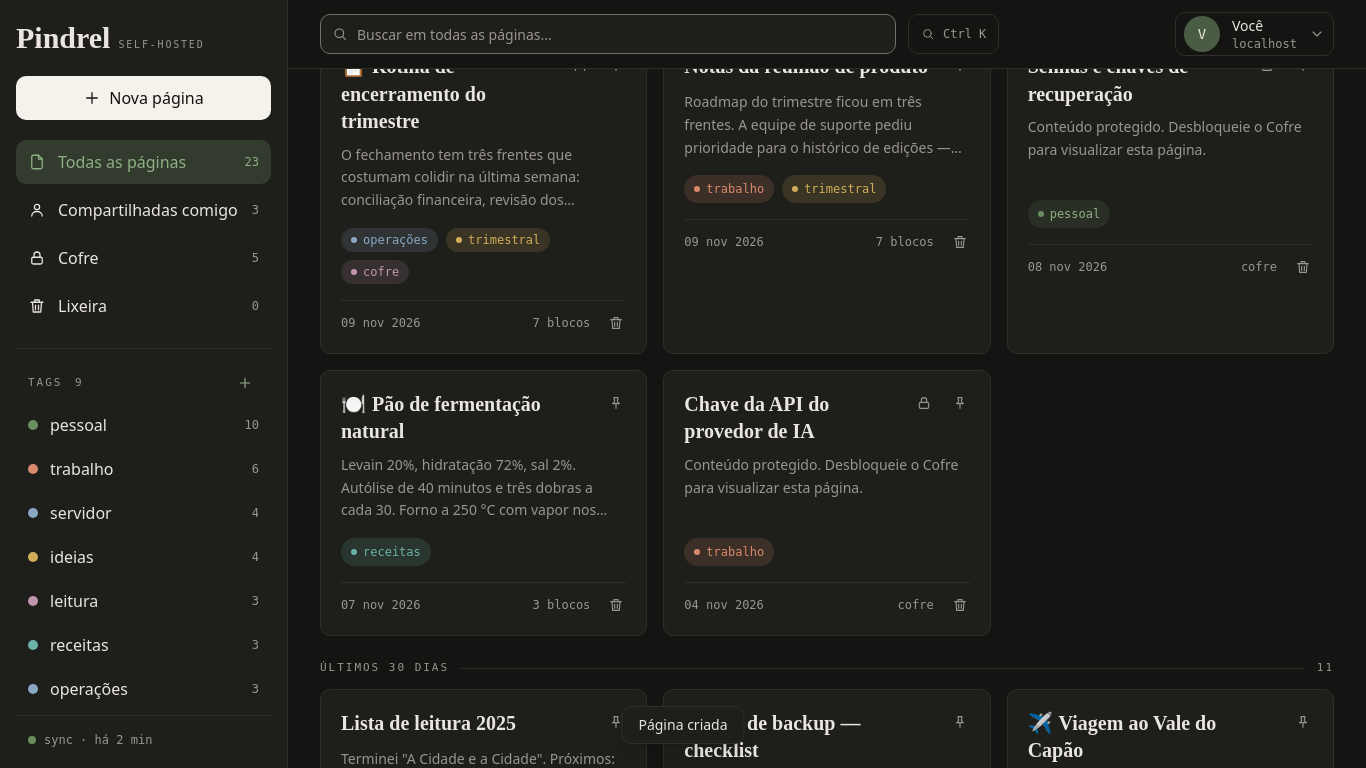
Test: App — painel e editor › online (sem o modo offline) o menu e o campo de pessoas continuam
(page scrolled)
Expected: the button "Compartilhadas comigo 3" is shown, x1=16 y1=188 x2=271 y2=232
Click the button "Pão de fermentação natural".
click(464, 418)  # box x1=341 y1=391 x2=586 y2=446
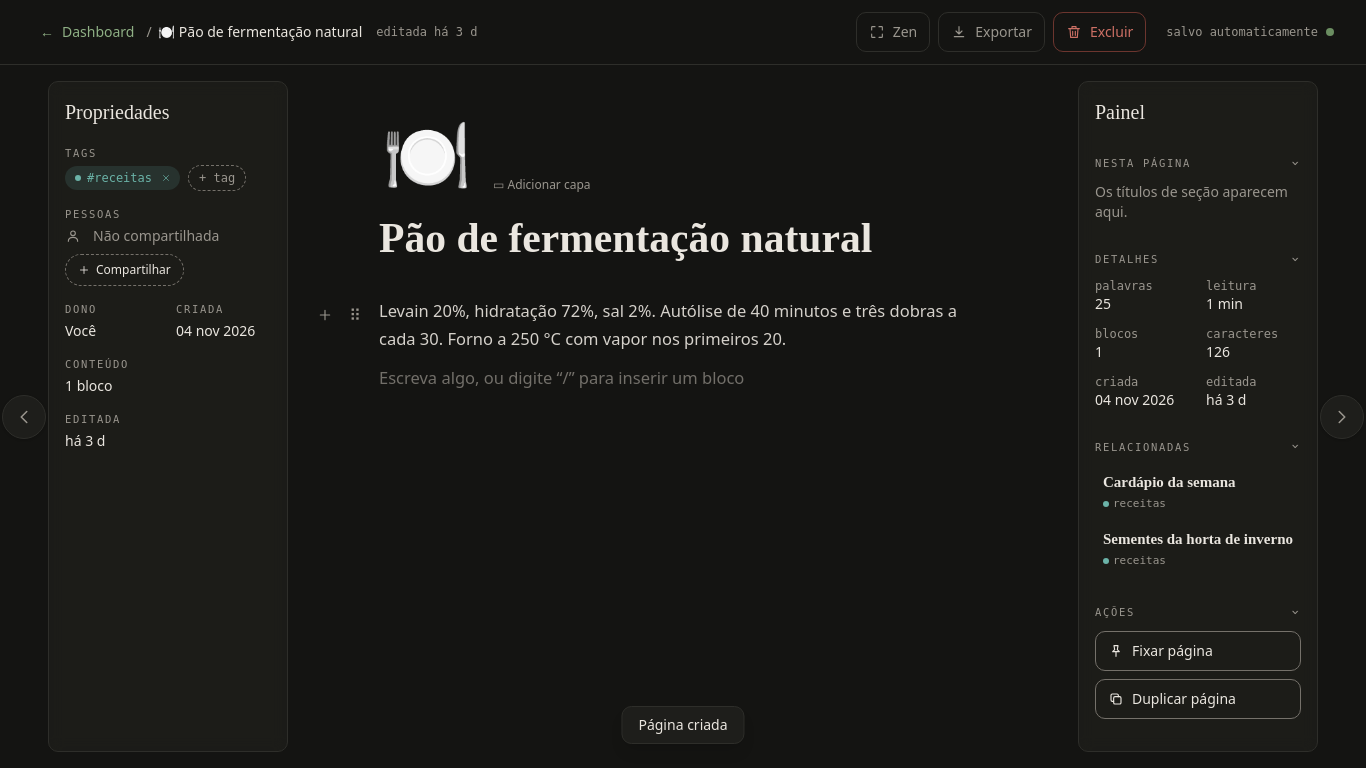
Expected: the text "Pessoas" is shown, x1=65 y1=208 x2=121 y2=220
